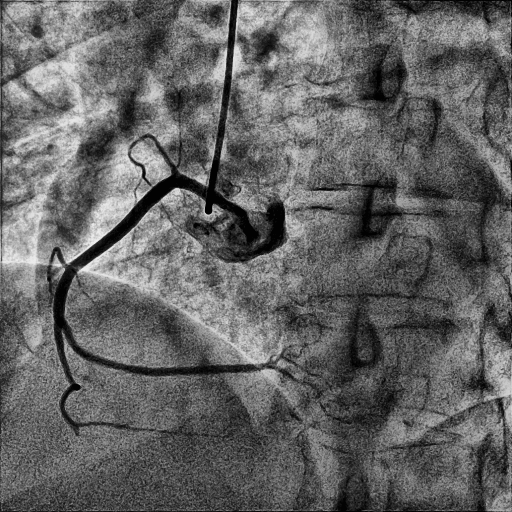rca: (54, 175, 268, 376)
